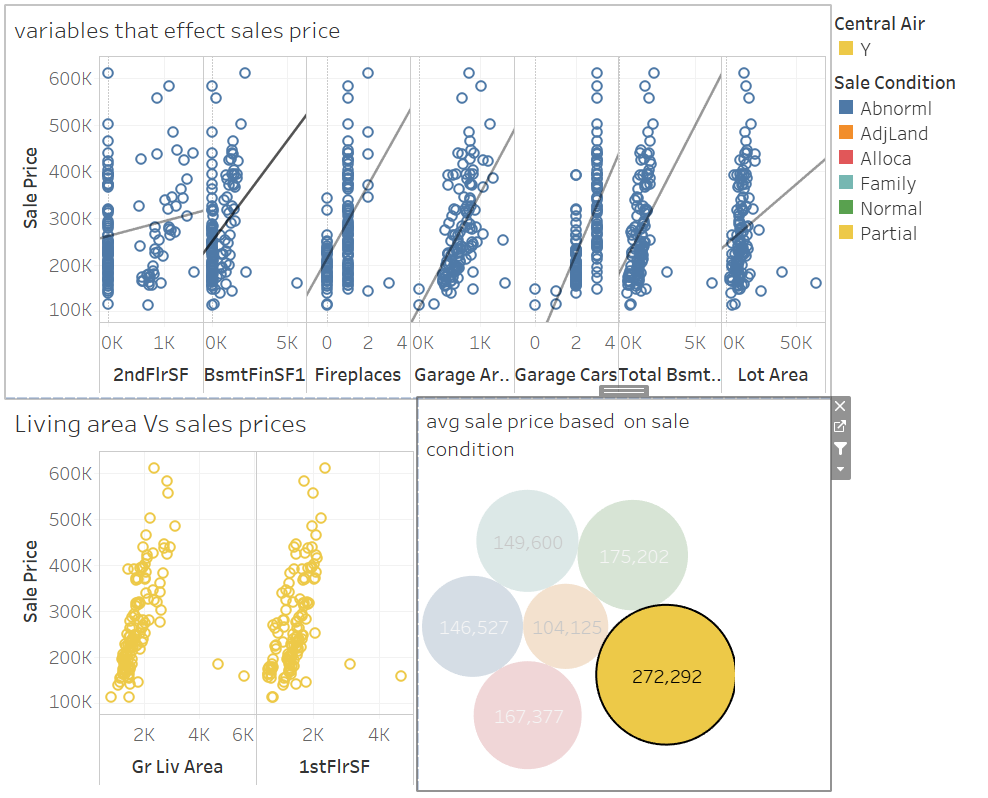

Layout of this report page (visuals, bound fields, positions):
{"tool":"tableau","page":{"name":"Dashboard 1","canvas":[1000,800],"ordinal":0},"visuals":[{"type":"worksheet","title":"Sheet 3","mark":"Automatic","rows":["SalePrice"],"cols":["2ndFlrSF","BsmtFinSF1","Fireplaces","GarageArea","GarageCars","TotalBsmtSF","LotArea"],"box":[8,8,824,392]},{"type":"legend","title":"Sheet 4","param":"[federated.013kjua17ogc8d1542pde0e82btp].[none:CentralAir:nk]","box":[832,8,160,84]},{"type":"legend","title":"Sheet 8","param":"[federated.013kjua17ogc8d1542pde0e82btp].[none:SaleCondition:nk]","box":[832,92,160,184]},{"type":"worksheet","title":"Sheet 4","mark":"Automatic","rows":["SalePrice"],"cols":["GrLivArea","1stFlrSF"],"box":[8,400,412,392]},{"type":"worksheet","title":"Sheet 8","mark":"Circle","box":[420,400,412,392]}]}

Visuals, with their boxes in screenshot pixels (x1, y1, x2, y2), scaled from the page's 1000x800 canvas onto the 988x798 screenshot:
"Sheet 3" worksheet: bbox=(8, 8, 822, 399)
"Sheet 4" legend: bbox=(822, 8, 980, 92)
"Sheet 8" legend: bbox=(822, 92, 980, 275)
"Sheet 4" worksheet: bbox=(8, 399, 415, 790)
"Sheet 8" worksheet (Circle marks): bbox=(415, 399, 822, 790)
